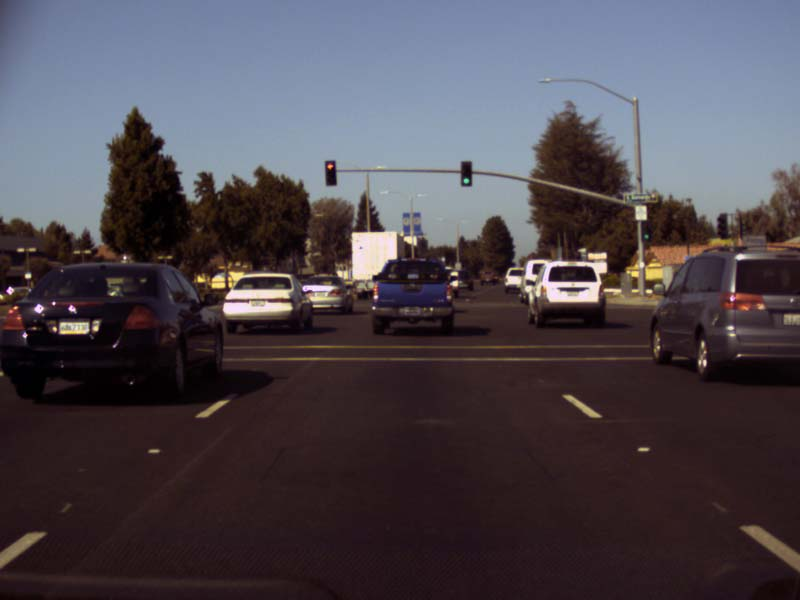Green: (460, 161, 471, 186), (642, 221, 650, 240)
Red: (325, 160, 336, 185)
